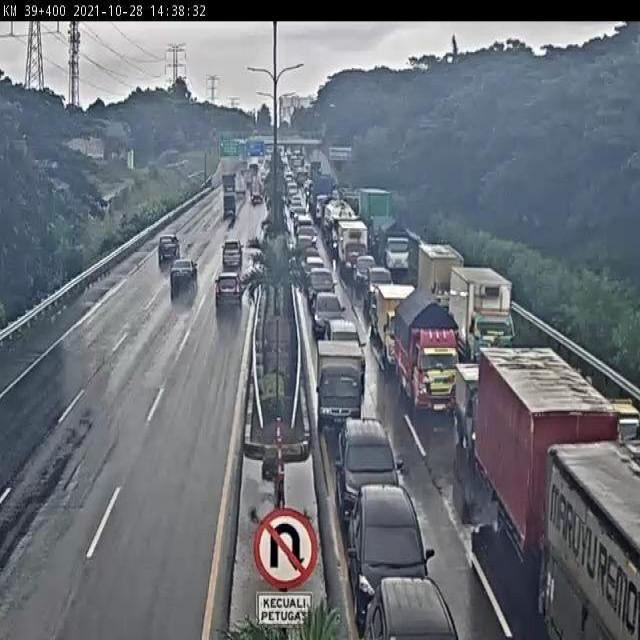big truck: (471, 348, 625, 543), (395, 296, 464, 415), (449, 268, 517, 357), (413, 241, 463, 311), (376, 282, 414, 358), (382, 224, 416, 280), (336, 224, 372, 272)
car: (345, 477, 435, 611), (331, 407, 401, 517), (352, 573, 466, 640), (324, 313, 367, 372), (212, 287, 243, 336), (313, 288, 345, 329), (214, 243, 246, 281), (150, 225, 178, 268), (366, 267, 394, 309), (172, 263, 204, 297), (310, 267, 336, 308), (353, 253, 380, 286)
small truck: (303, 340, 376, 416), (455, 360, 482, 452)
